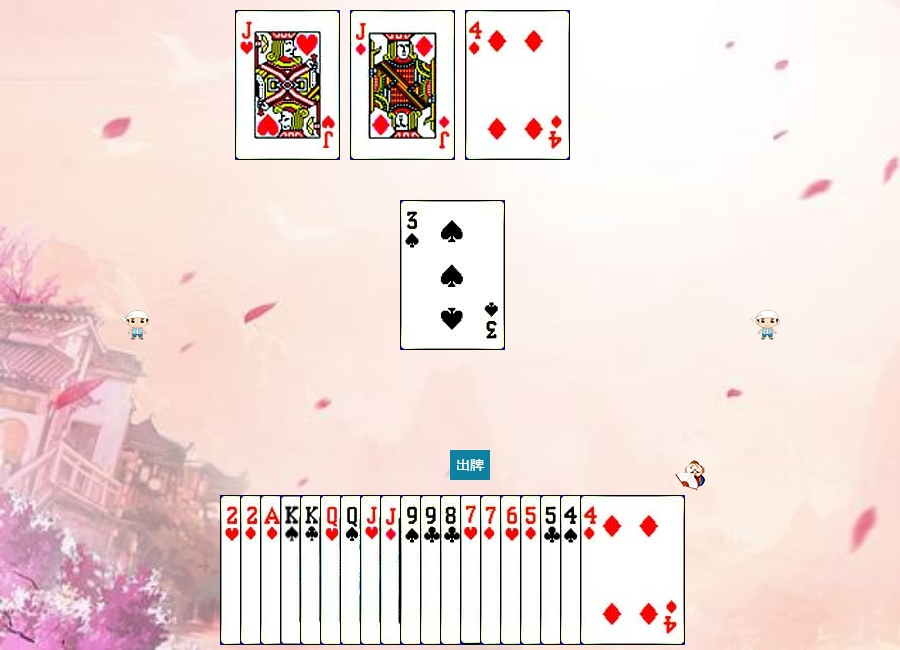11~1: (350, 10, 455, 160), (380, 495, 485, 645)
11~3: (235, 10, 340, 160), (360, 495, 465, 645)
12~3: (320, 495, 425, 645)
12~4: (340, 495, 445, 645)
13~2: (300, 495, 405, 645)
13~4: (280, 495, 385, 645)
14~1: (260, 495, 365, 645)
15~1: (240, 495, 345, 645)
15~3: (220, 495, 325, 645)
3~4: (400, 200, 505, 350)
4~1: (465, 10, 570, 160), (580, 495, 685, 645)
4~4: (560, 495, 665, 645)
5~1: (520, 495, 625, 645)
5~2: (540, 495, 645, 645)
6~3: (500, 495, 605, 645)
7~1: (480, 495, 585, 645)
7~3: (460, 495, 565, 645)
8~2: (440, 495, 545, 645)
9~2: (420, 495, 525, 645)
9~4: (400, 495, 505, 645)
